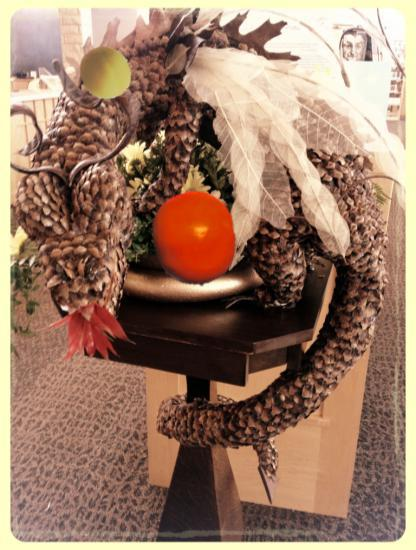Clementine: (146, 190, 243, 287)
Peach: (78, 45, 133, 100)
